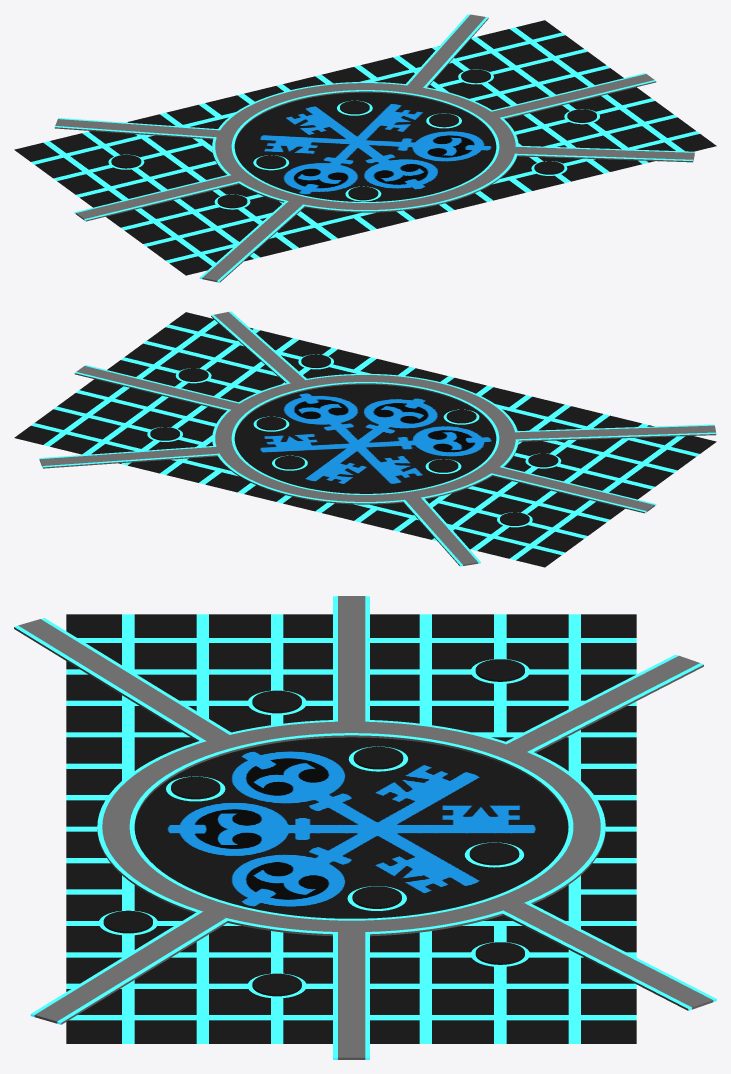
Rendered from level5.fbx.
The picture shows the model from 3 angles, top to bottom: view 1: azimuth 30°, elevation 25°; view 2: azimuth 150°, elevation 25°; view 3: azimuth 270°, elevation 25°; orthographic projection. The views are drawn at different scales.
Parts seen in each view (by area): view 1: Field, Plane.001, Plane.005, Plane.006, Plane.003, Plane.002, Plane.007, Plane.004; view 2: Field, Plane.001, Plane.005, Plane.004, Plane.003, Plane.002, Plane.006, Plane.007; view 3: Field, Plane.001, Plane.005, Plane.004, Plane.006, Plane.007, Plane.002, Plane.003, Cylinder.002, Cylinder.001, Cylinder.007, Cylinder.006 (+5 smaller).
Part boxes in pixels (x1,y1,x2,y2): Field: [14, 20, 716, 275]; Plane.001: [212, 82, 518, 212]; Plane.005: [199, 201, 304, 282]; Plane.006: [514, 145, 694, 162]; Plane.003: [74, 174, 239, 221]; Plane.002: [491, 73, 656, 119]; Plane.007: [54, 118, 233, 139]; Plane.004: [405, 14, 488, 87]; Field: [14, 312, 716, 567]; Plane.001: [212, 374, 518, 504]; Plane.005: [515, 424, 716, 441]; Plane.004: [39, 445, 219, 468]; Plane.003: [491, 466, 656, 513]; Plane.002: [74, 365, 239, 411]; Plane.006: [211, 311, 306, 383]; Plane.007: [400, 491, 480, 566]; Field: [66, 614, 636, 1043]; Plane.001: [97, 720, 605, 936]; Plane.005: [14, 618, 232, 741]; Plane.004: [502, 902, 716, 1010]; Plane.006: [30, 911, 228, 1024]; Plane.007: [490, 654, 703, 759]; Plane.002: [333, 932, 369, 1059]; Plane.003: [333, 596, 369, 721]; Cylinder.002: [469, 842, 519, 865]; Cylinder.001: [252, 690, 301, 713]; Cylinder.007: [252, 973, 301, 996]; Cylinder.006: [171, 776, 220, 799].
Bounding box in the file's own units: 4405 × 20 × 2835.
